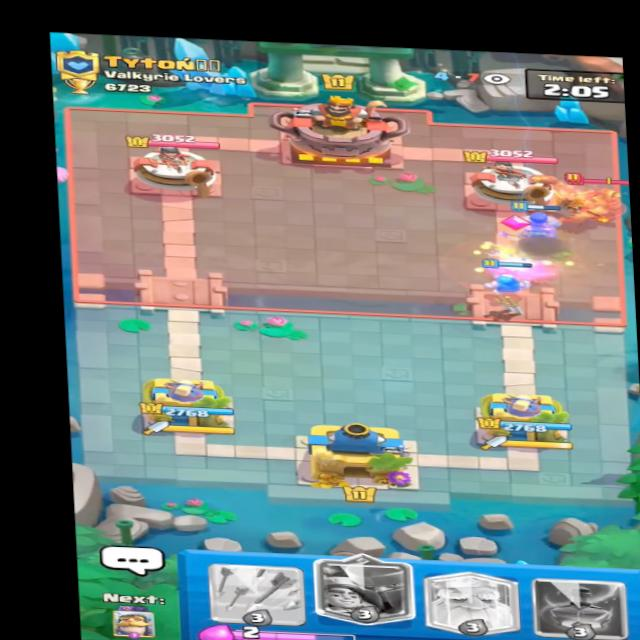goblin-demolisher: (573, 194, 640, 228)
phoenix: (526, 172, 629, 217)
